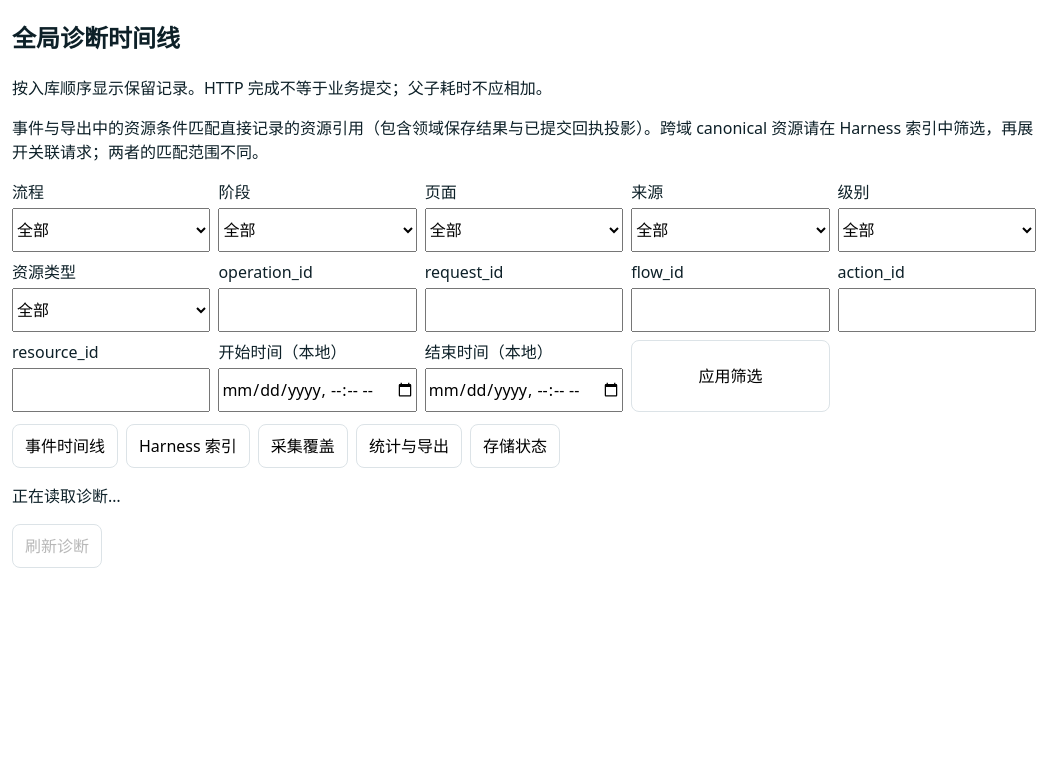
Test: storage view loads lazily and fences responses after leaving the view
Click the button "存储状态".
click(515, 446)  # box 470,424 -> 560,468
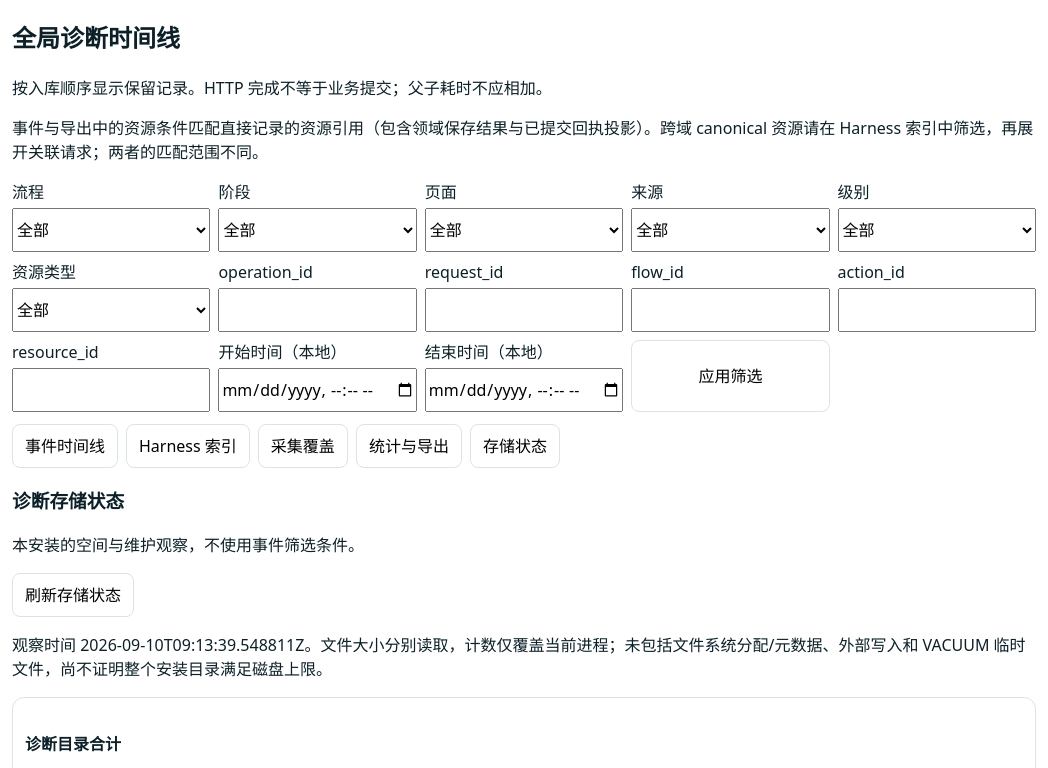
Click the button "刷新存储状态".
click(73, 595)  # box 12,573 -> 134,617
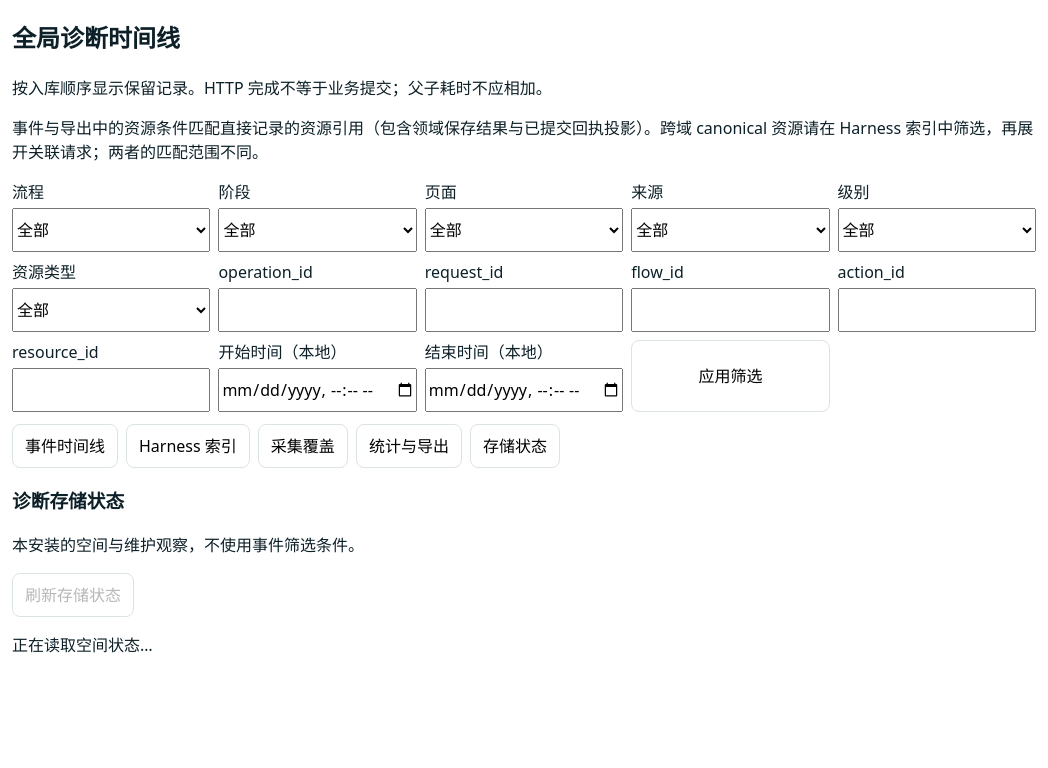
Click the button "事件时间线".
click(65, 446)  # box 12,424 -> 118,468
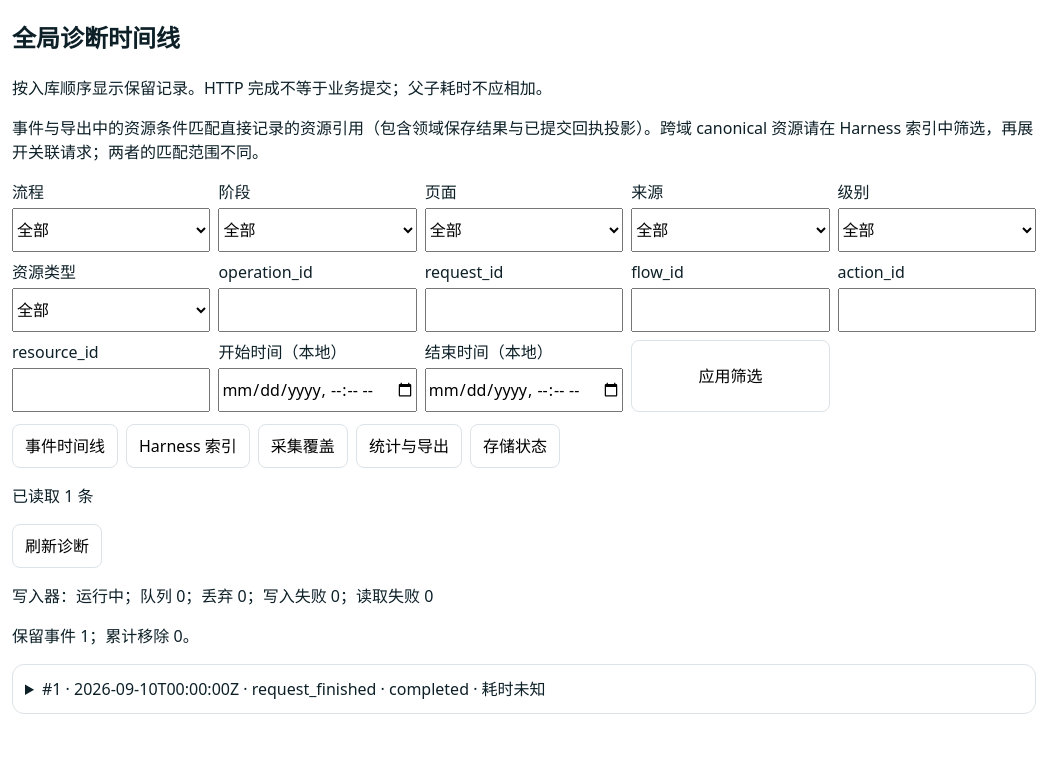
Check: the heading "诊断存储状态" is gone
